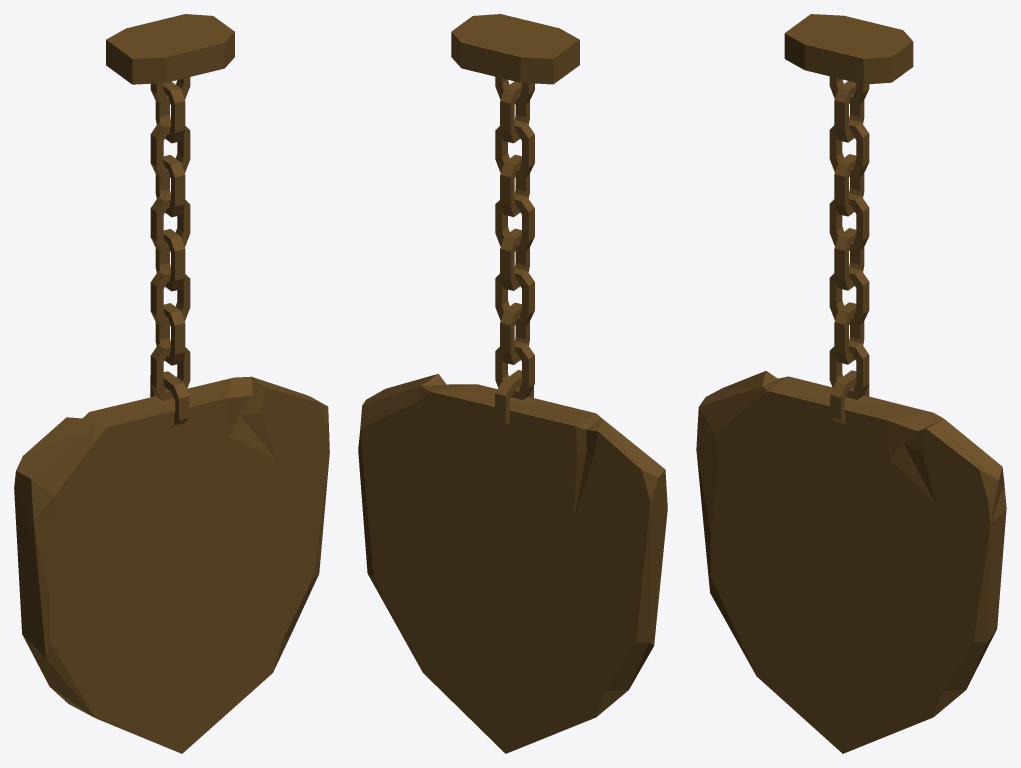
The model's file is sign.fbx.
The picture shows the model from 3 angles, left to right: view 1: azimuth 30°, elevation 25°; view 2: azimuth 150°, elevation 25°; view 3: azimuth 330°, elevation 25°; orthographic projection.
Parts seen in each view (by area): view 1: sign; view 2: sign; view 3: sign.
Boxes of the visible parts, left/top/right/bottom form: sign: left=14, top=14, right=329, bottom=753; sign: left=358, top=14, right=667, bottom=753; sign: left=696, top=14, right=1006, bottom=753.
Size of the model in its own units: 59.41 by 133 by 13.43.
